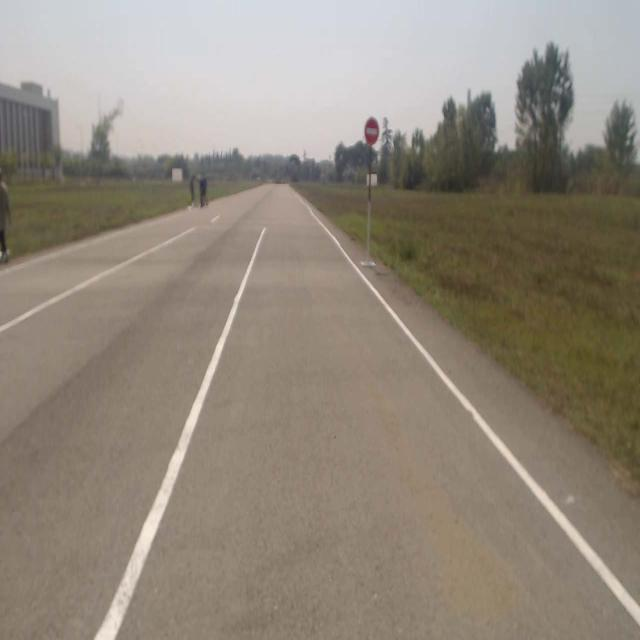girisyok: (365, 118, 379, 143)
